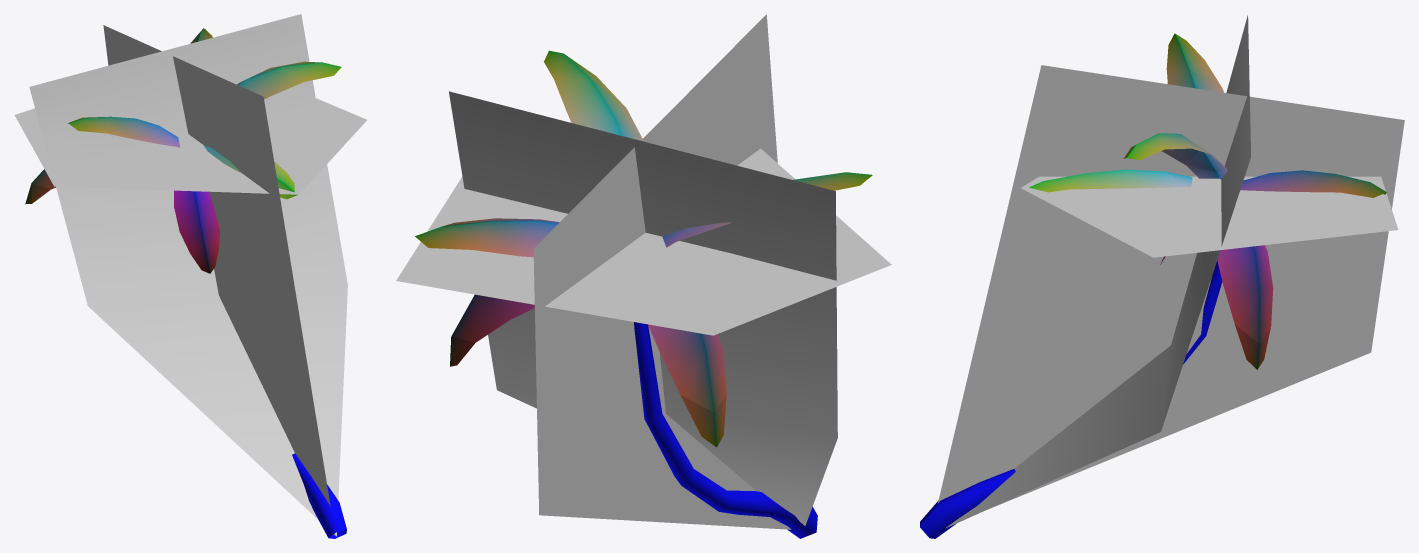
Rendered from Palm_03.fbx.
The picture shows the model from 3 angles, left to right: view 1: azimuth 30°, elevation 25°; view 2: azimuth 150°, elevation 25°; view 3: azimuth 270°, elevation 25°; orthographic projection. The views are drawn at different scales.
Visible parts, largest first — view 1: Palm_03_billboard, Palm_03; view 2: Palm_03_billboard, Palm_03; view 3: Palm_03_billboard, Palm_03.
Part boxes in pixels (x1,y1,x2,y2): Palm_03_billboard: [14, 14, 366, 536]; Palm_03: [25, 28, 346, 538]; Palm_03_billboard: [396, 14, 891, 529]; Palm_03: [415, 50, 872, 538]; Palm_03_billboard: [938, 15, 1404, 528]; Palm_03: [920, 33, 1386, 538].
Bounding box in the file's own units: 244 × 318 × 303.
